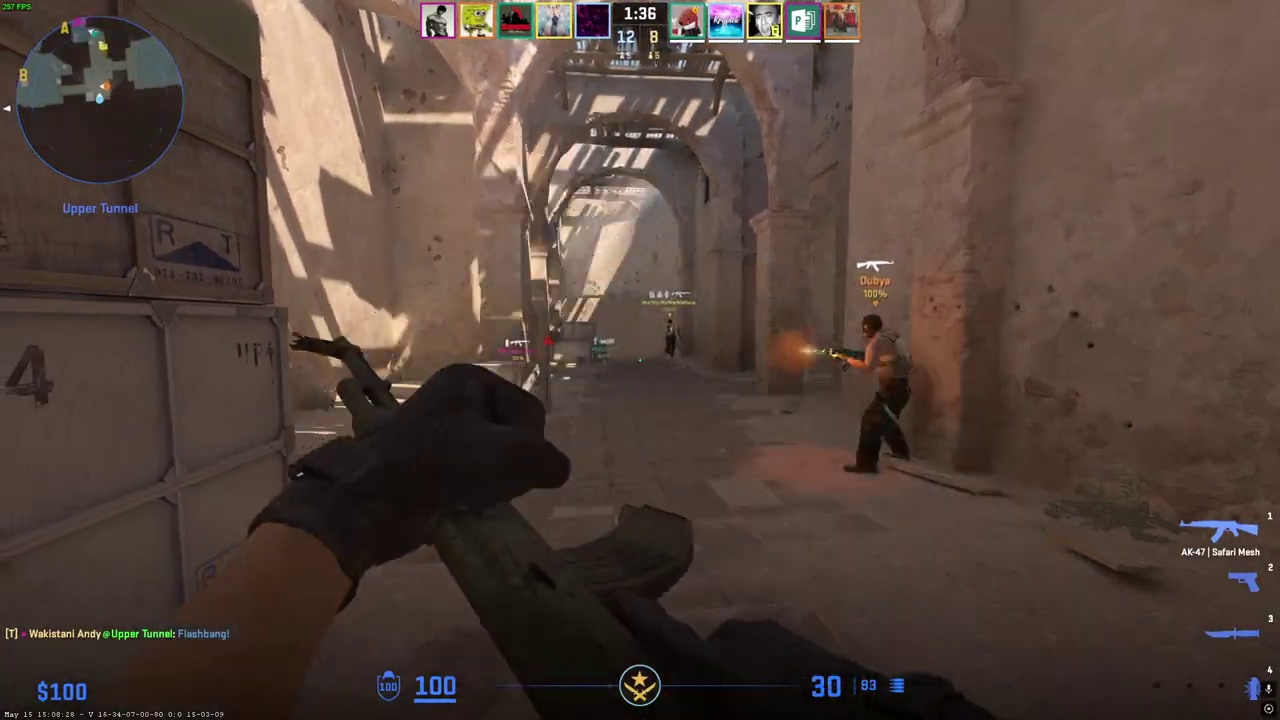Terrorist: (847, 313, 916, 474), (664, 319, 679, 358)
